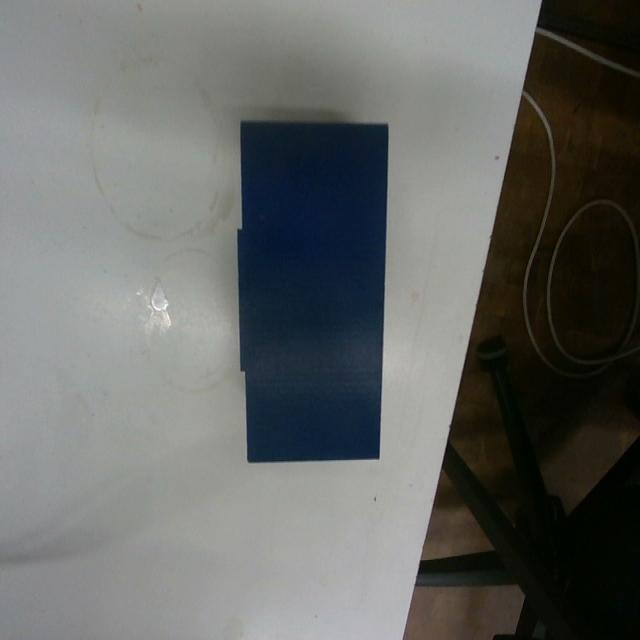Blue Cuboid: (235, 116, 389, 464)
